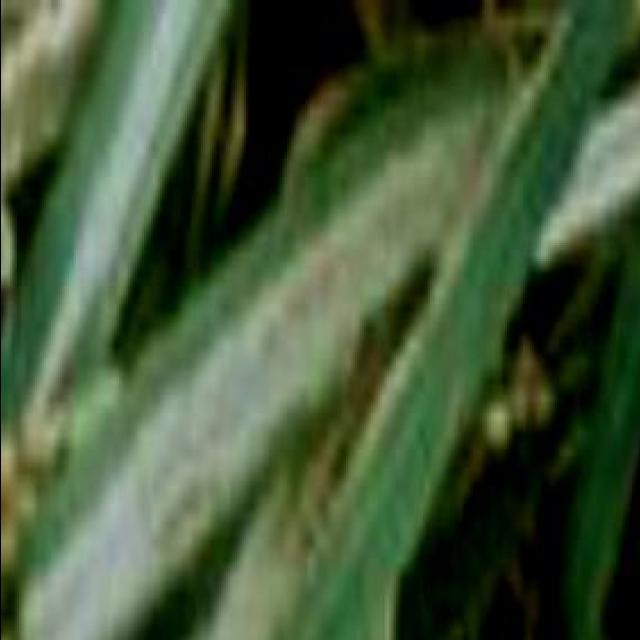Bacterial_Leaf_Blight: (18, 165, 401, 640)
